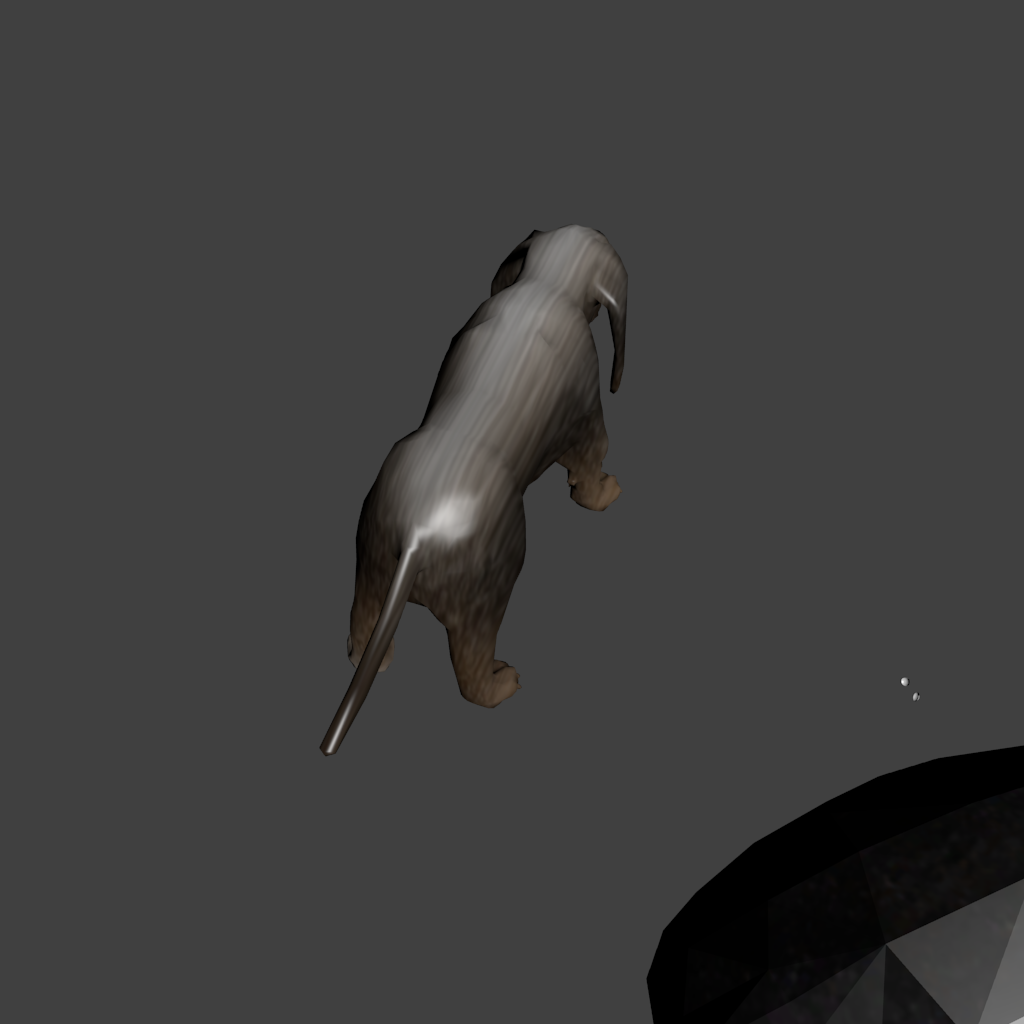Dog: (170, 95, 854, 929)
